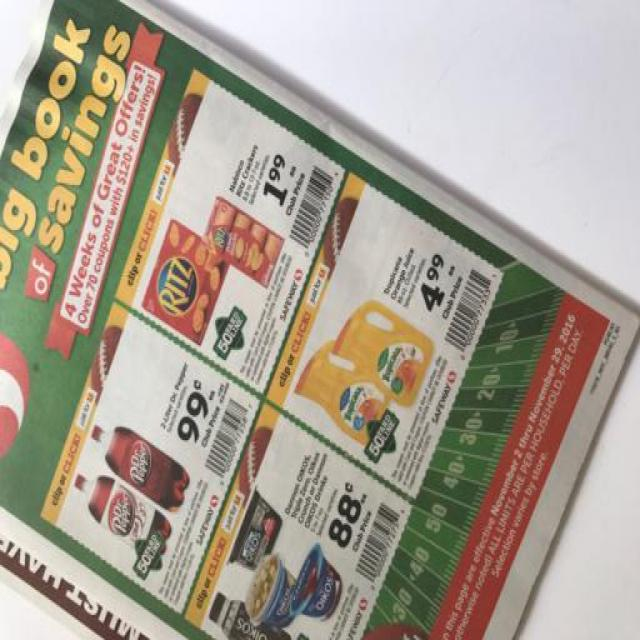paper: (5, 1, 640, 640)
